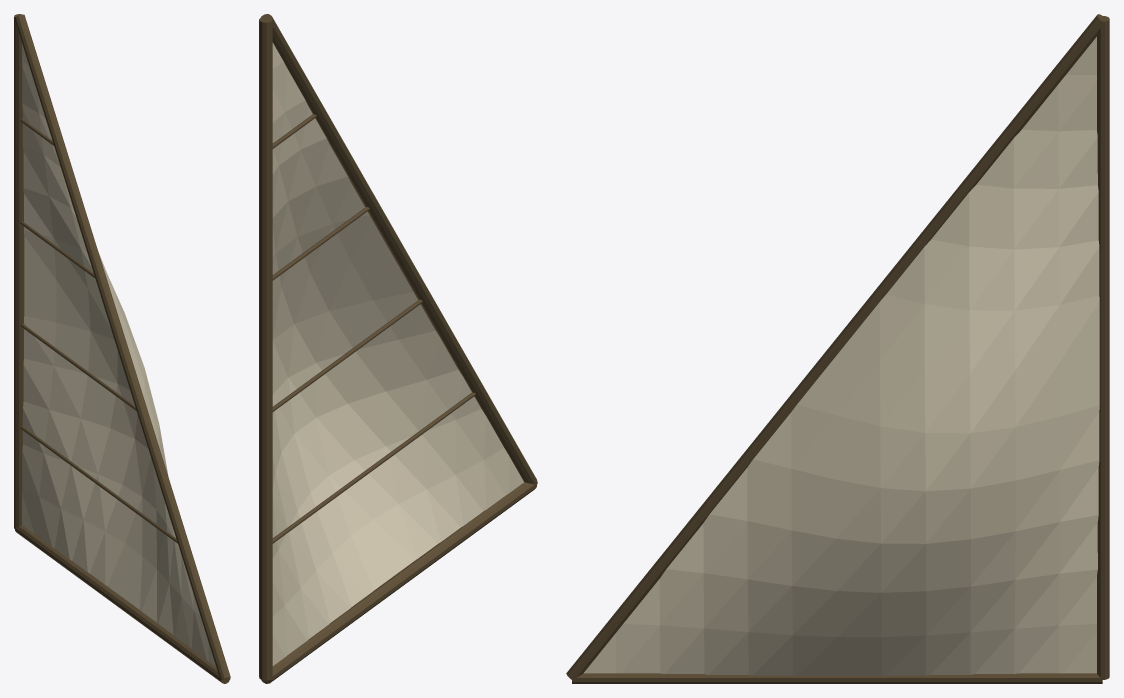
The model's file is upgrade-sail.glb.
The picture shows the model from 3 angles, left to right: view 1: azimuth 30°, elevation 25°; view 2: azimuth 150°, elevation 25°; view 3: azimuth 270°, elevation 25°; orthographic projection. The views are drawn at different scales.
Visible parts, largest first — view 1: upgrade-sail; view 2: upgrade-sail; view 3: upgrade-sail.
Boxes of the visible parts, x1,y1,x2,y2 form: upgrade-sail: (14, 14, 230, 683); upgrade-sail: (259, 14, 537, 683); upgrade-sail: (566, 14, 1109, 683).
Size of the model in its own units: 0.3086 by 2.64 by 1.95.
